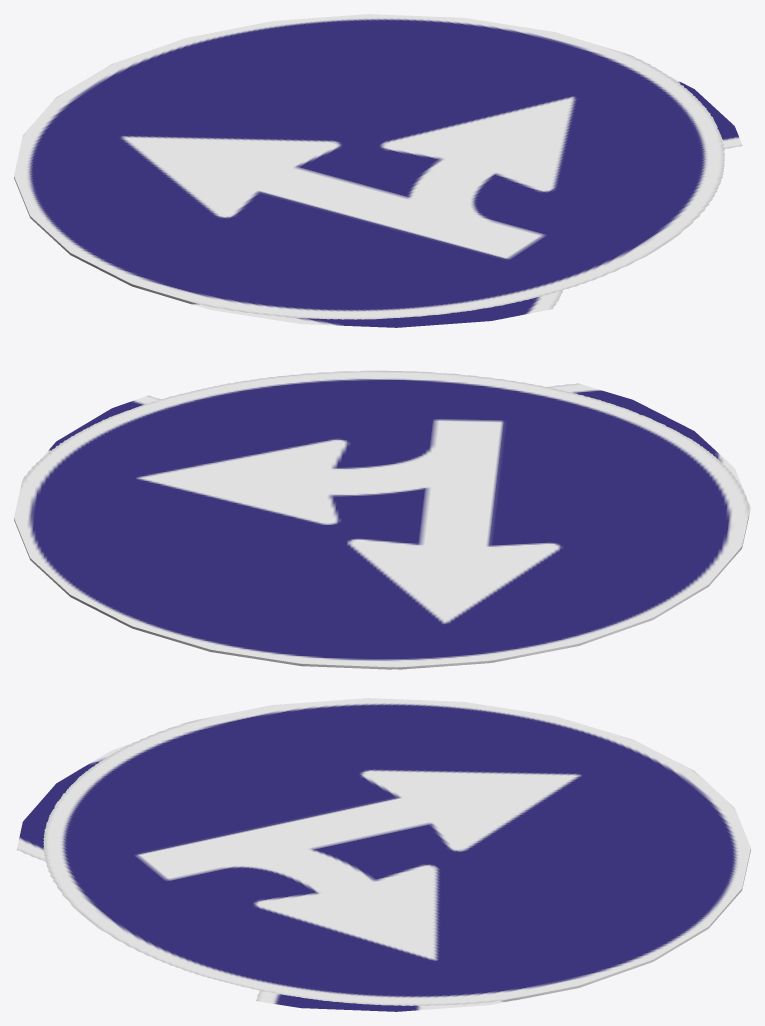
The picture shows the model from 3 angles, top to bottom: view 1: azimuth 30°, elevation 25°; view 2: azimuth 150°, elevation 25°; view 3: azimuth 270°, elevation 25°; orthographic projection.
Parts seen in each view (by area): view 1: SketchUp; view 2: SketchUp; view 3: SketchUp.
Part boxes in pixels (x1=…): SketchUp: x1=14, y1=14, x2=742, y2=327; SketchUp: x1=14, y1=370, x2=750, y2=669; SketchUp: x1=16, y1=698, x2=750, y2=1011.
Size of the model in its own units: 71.95 by 71.95 by 0.25.
1 material, 1 textured.
